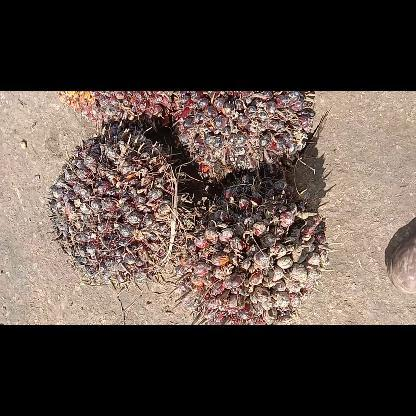Kurang masak: (45, 130, 183, 286), (176, 189, 330, 323), (171, 92, 320, 184), (56, 92, 178, 128)
